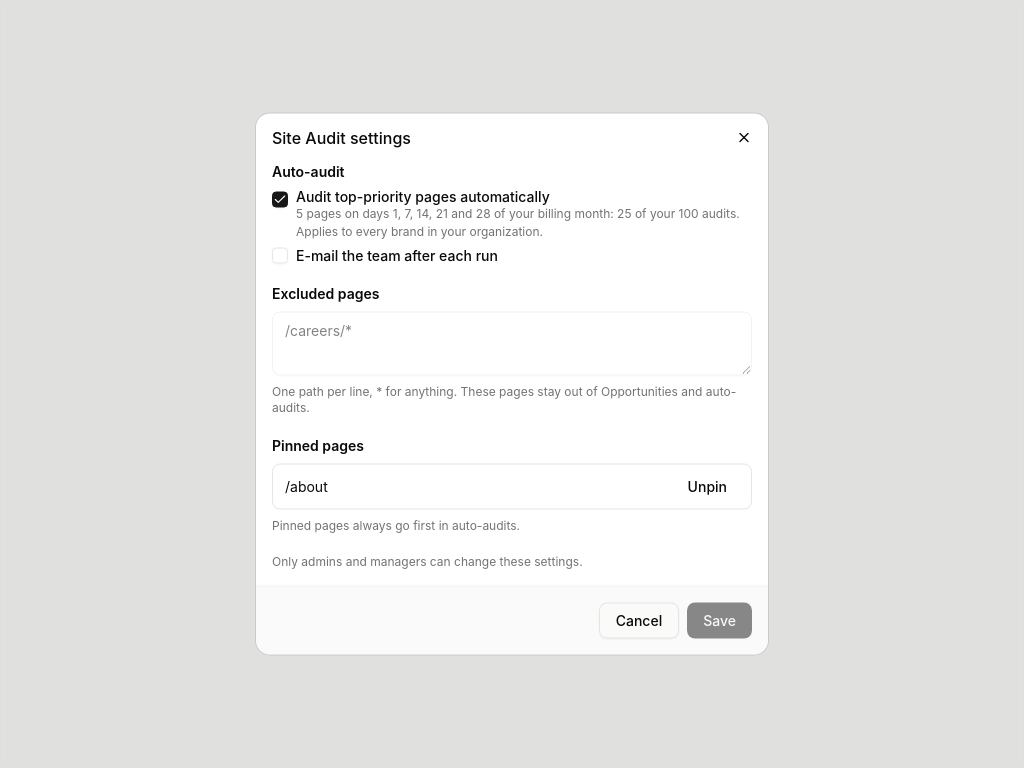
Test case: AuditSettingsDialog › is read-only for members who can't manage it, who can still unpin
Expected: the dialog shows "Only admins and managers can change these settings.", [272,554,583,568]
Expected: the text box named "Excluded pages" is disabled, [272,312,752,376]
Click the button "Unpin": [707, 486] box [676,470,739,502]
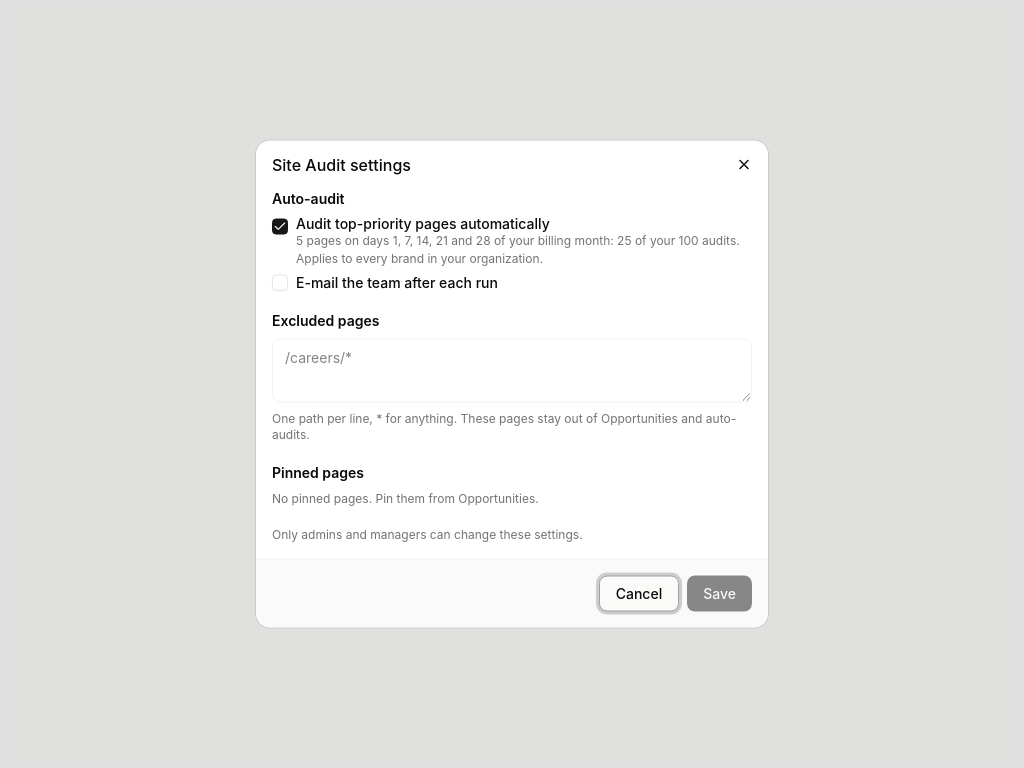
Now the dialog shows "No pinned pages. Pin them from Opportunities.", box [272,490,539,506]
